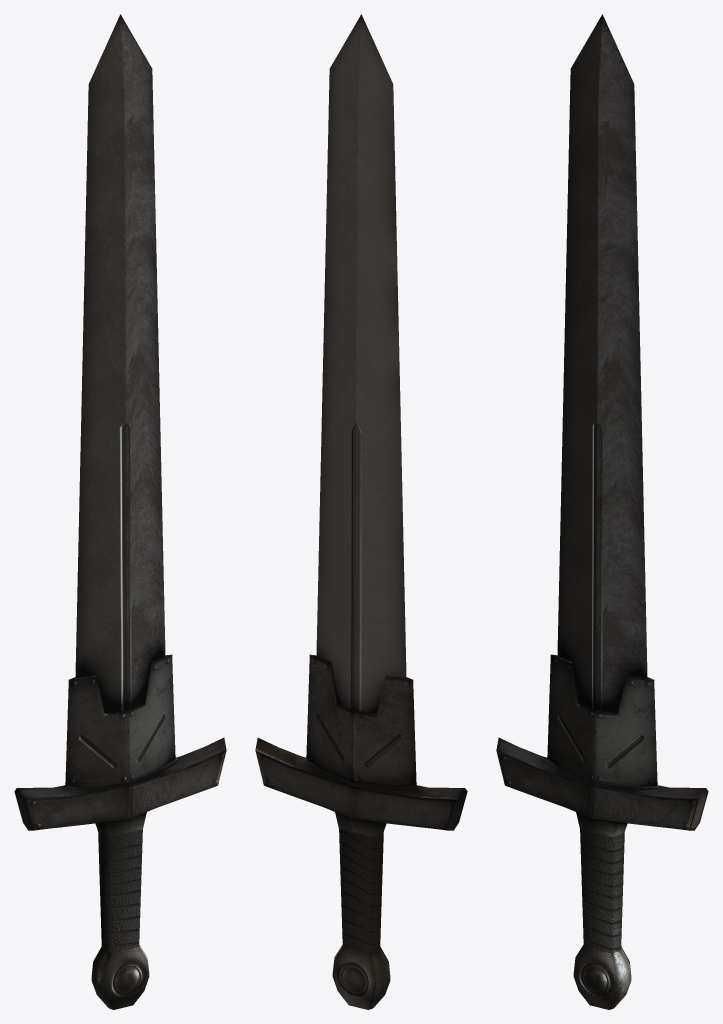
File: LongSword.fbx
3 renders of one model, left to right at view 1: azimuth 30°, elevation 25°; view 2: azimuth 150°, elevation 25°; view 3: azimuth 330°, elevation 25°, orthographic.
Parts seen in each view (by area): view 1: 立方体, 立方体.003, 立方体.002, 立方体.001; view 2: 立方体, 立方体.003, 立方体.002, 立方体.001; view 3: 立方体, 立方体.003, 立方体.002, 立方体.001.
Boxes of the visible parts, x1=… form: 立方体: x1=75, y1=14, x2=165, y2=713; 立方体.003: x1=65, y1=654, x2=175, y2=786; 立方体.002: x1=91, y1=812, x2=149, y2=1009; 立方体.001: x1=14, y1=737, x2=226, y2=830; 立方体: x1=316, y1=14, x2=406, y2=713; 立方体.003: x1=306, y1=654, x2=416, y2=786; 立方体.002: x1=332, y1=812, x2=390, y2=1009; 立方体.001: x1=255, y1=737, x2=467, y2=830; 立方体: x1=557, y1=14, x2=647, y2=713; 立方体.003: x1=547, y1=654, x2=657, y2=786; 立方体.002: x1=573, y1=812, x2=631, y2=1009; 立方体.001: x1=496, y1=737, x2=708, y2=830.
Bounding box in the file's own units: 26.94 × 123 × 4.61.
Materials: 1 (1 with a texture image).
